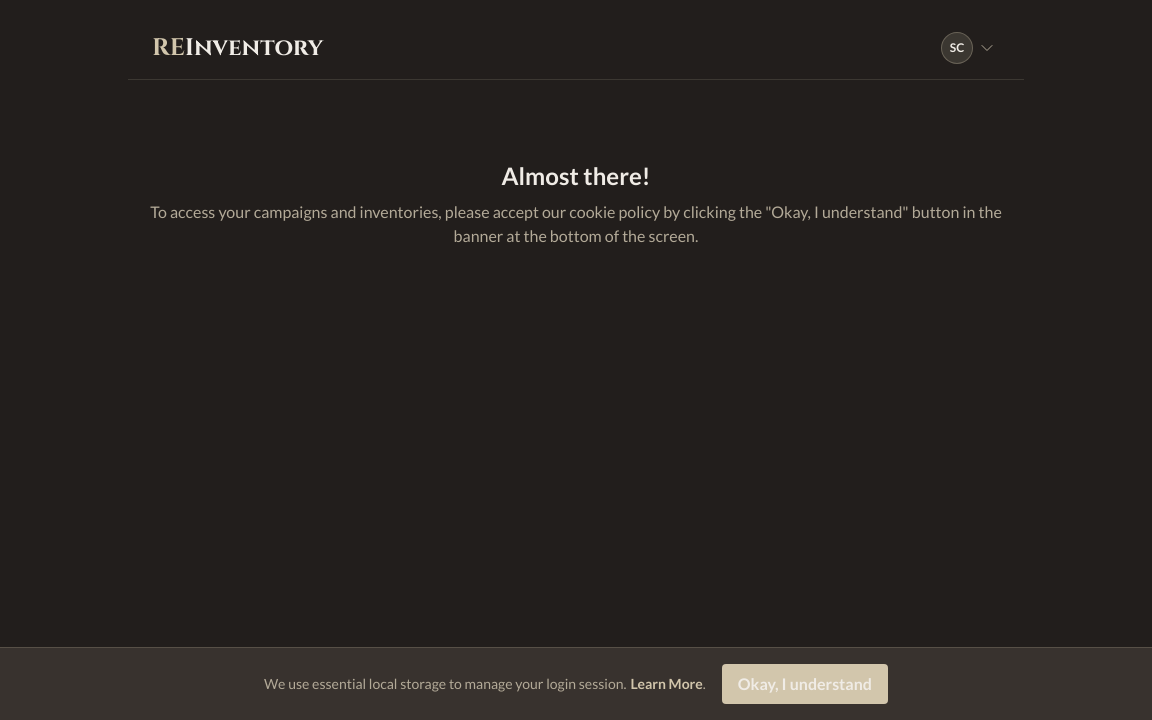
it: the signed-in app header connects the profile menu to profile settings
Step 1. Click the button with aria-label "Account menu for Simone Cervini" → (968, 48), box top-left (936, 26), bottom-right (1000, 70)
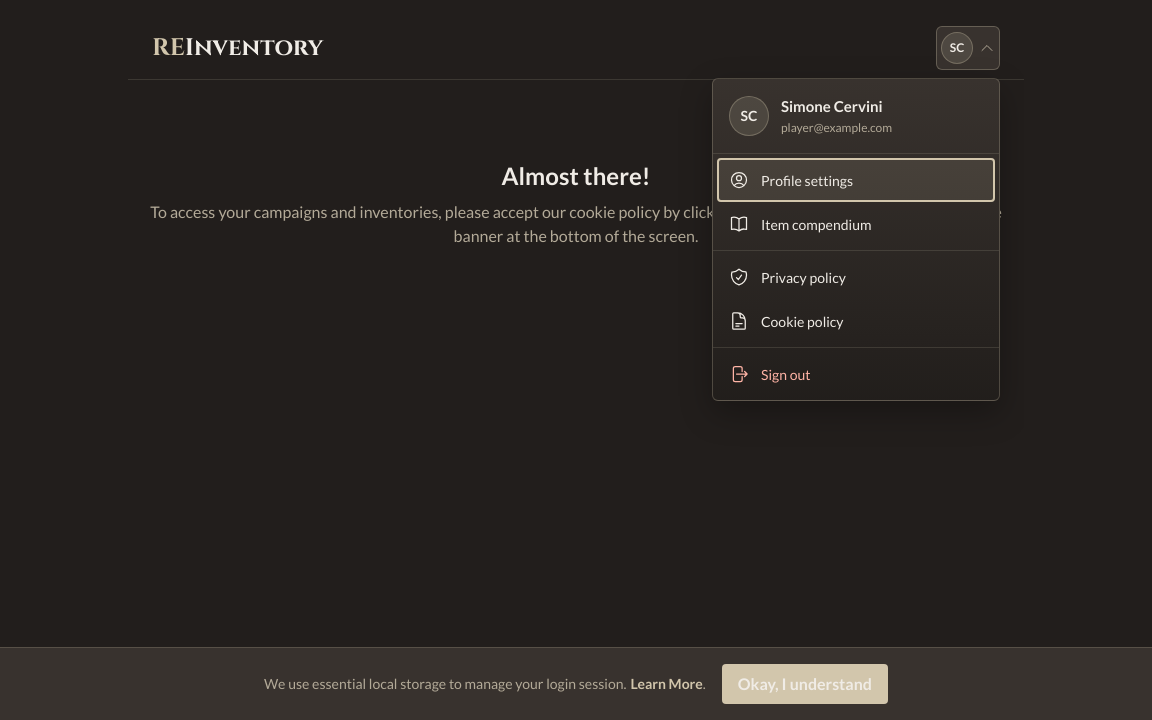
Step 2. Click the menu item "Profile settings" → (856, 180), box top-left (717, 158), bottom-right (995, 202)
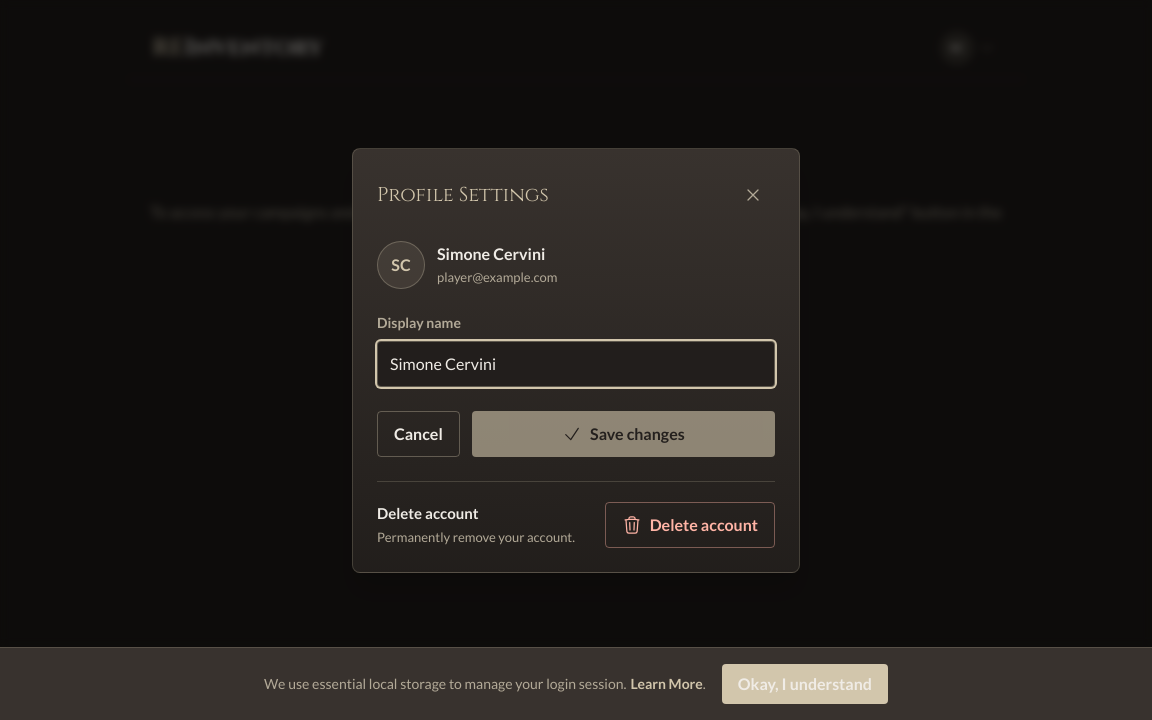
Result: the heading "Profile Settings" is shown at top-left (377, 180), bottom-right (549, 210)
Result: the menu is gone
